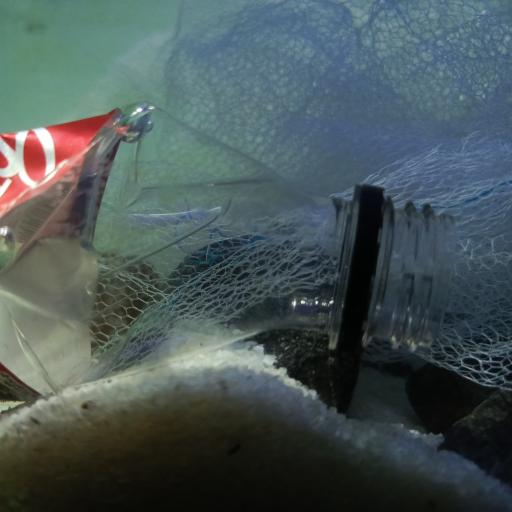net: (102, 0, 511, 398)
plastic_bottle: (0, 100, 455, 400)
